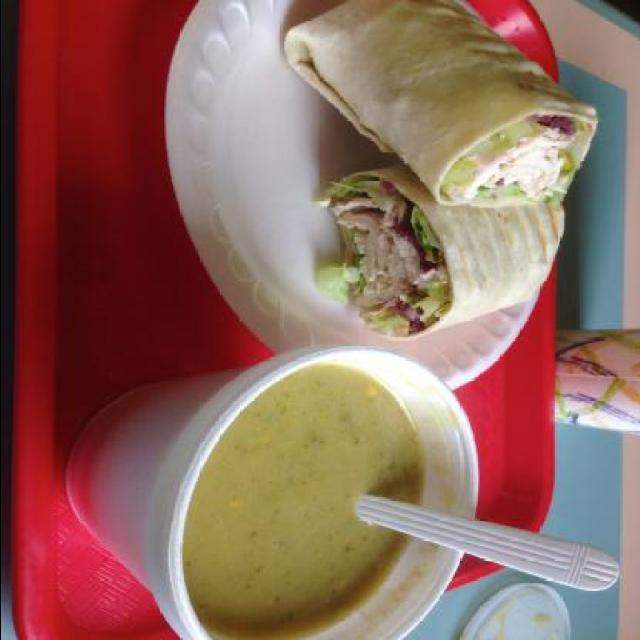Sandwich: (282, 0, 600, 214), (322, 164, 570, 336)
